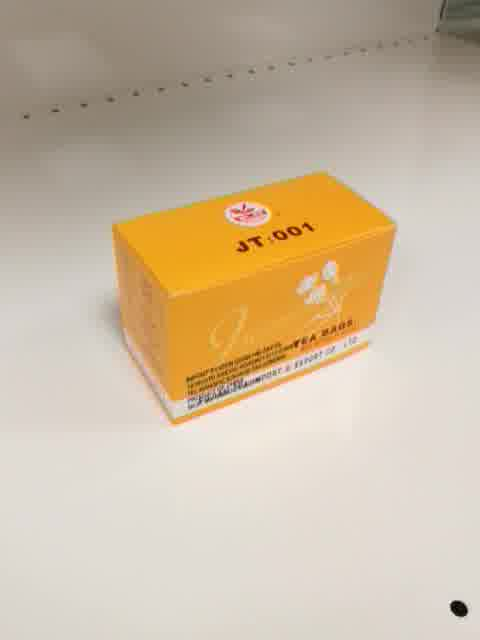jasminetea: (109, 169, 399, 428)
